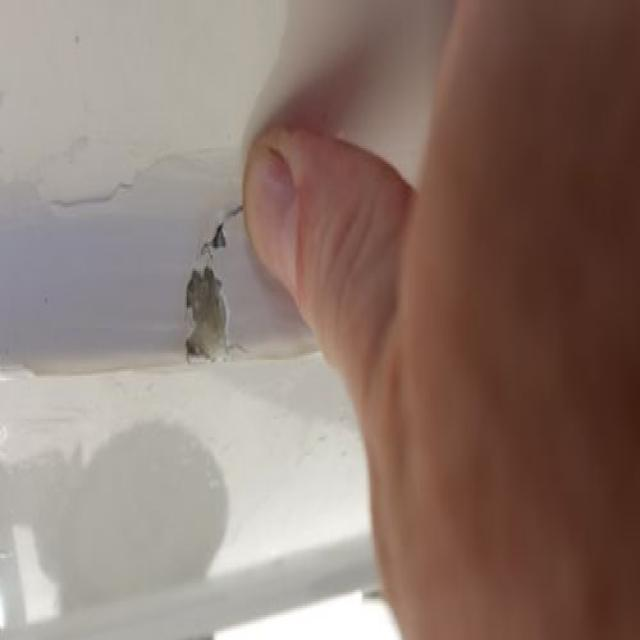Rupture: (46, 140, 232, 213), (180, 266, 248, 368), (191, 192, 247, 264)
